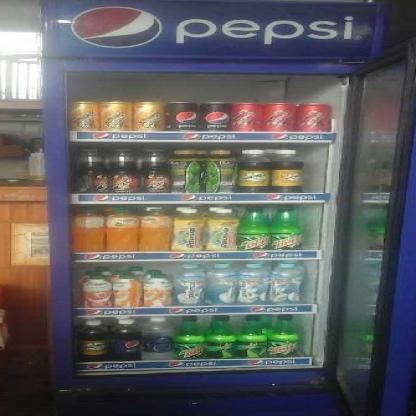another: (265, 202, 309, 249), (263, 312, 303, 356), (198, 312, 234, 359), (234, 204, 273, 247), (171, 313, 204, 360), (235, 312, 268, 359)
aquafina: (140, 314, 176, 357)
goodmood: (263, 260, 306, 304), (171, 262, 210, 305), (231, 261, 271, 302), (202, 263, 240, 302)
mirinda-xaxi-chai: (263, 147, 306, 192), (234, 149, 273, 193), (72, 318, 111, 360)
olong-tea: (164, 146, 202, 193), (200, 148, 240, 192)
pepsi-blue-chai: (107, 318, 144, 358)
pepsi-chanhmuoi: (191, 99, 240, 132), (159, 100, 204, 132)
revive-chanhmuoi-chai: (201, 205, 241, 250), (168, 207, 207, 251)
sting-cafe-chai: (101, 145, 142, 192), (136, 145, 174, 193), (66, 147, 105, 192)
sting-red: (292, 100, 336, 136), (256, 98, 298, 134), (224, 100, 267, 133)
sting-yellow: (92, 99, 138, 132), (128, 99, 169, 132), (65, 98, 104, 132)
twister-cam: (99, 205, 143, 250), (66, 206, 107, 252), (138, 204, 175, 249)
twister-cam2: (106, 271, 144, 305), (136, 269, 172, 303)
twister-dau: (76, 270, 113, 308)
